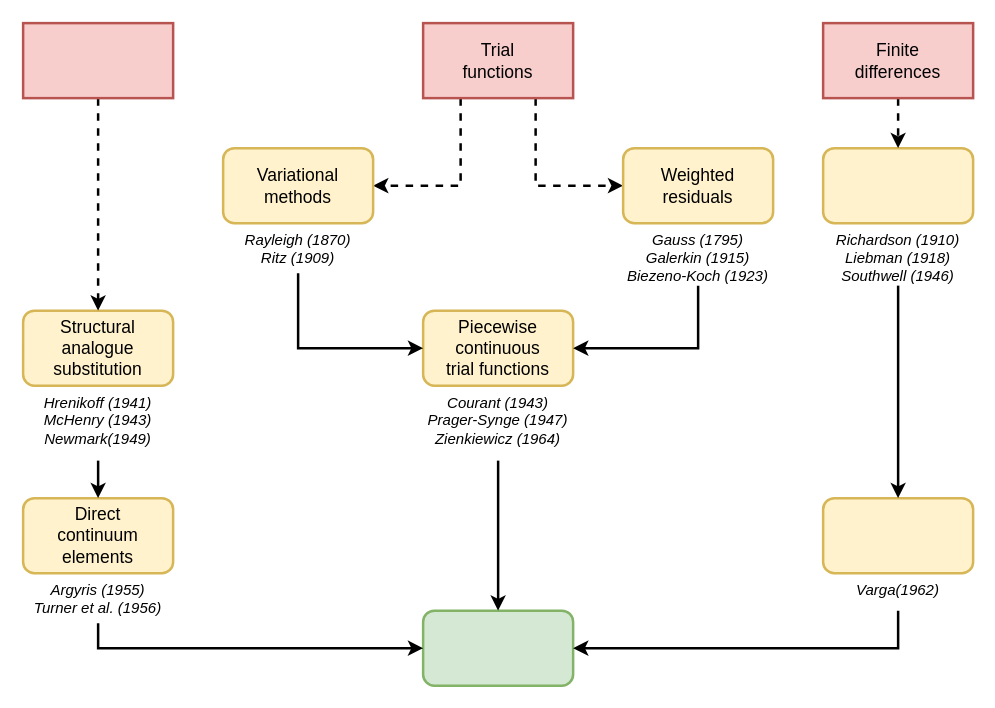
Some shapes in this 995 by 708 pixel diagram are drawn without their labels. The shapes that lost their labels are listed below. From the top down, each one's box as (x1, y1, x2, y2) in pixels, then its label:
(21, 21, 174, 99): Numerical approximation
(821, 146, 974, 224): Finite differences methods
(821, 496, 974, 574): Variational finite differences
(421, 609, 574, 686): Finite Element Method
